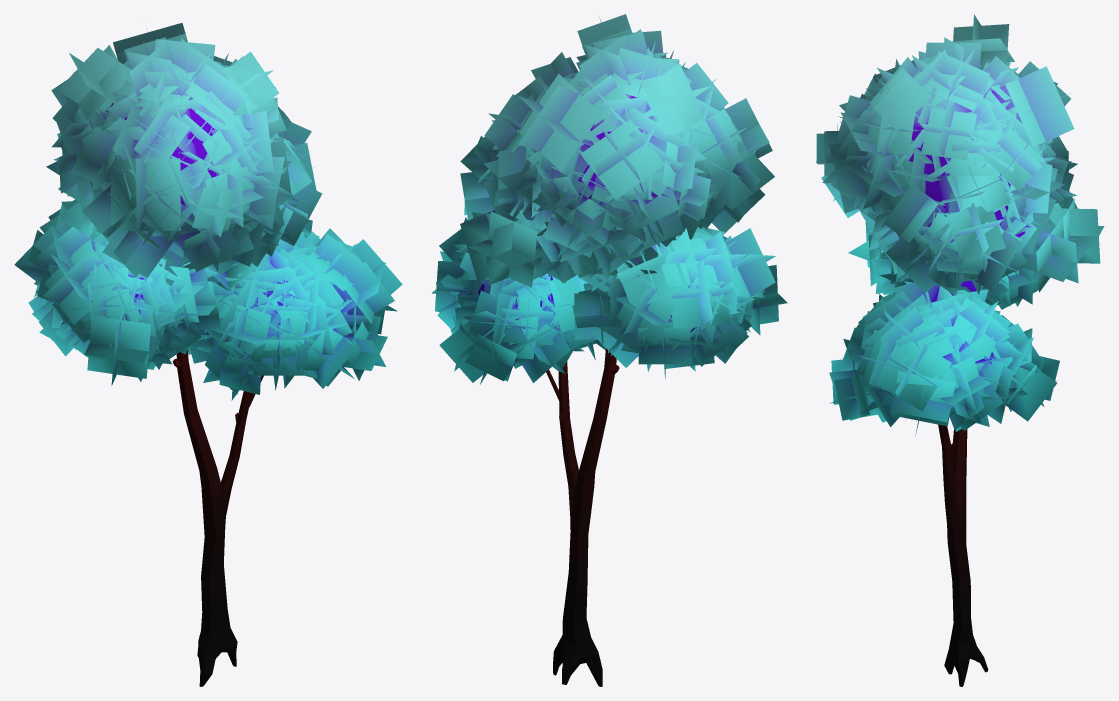
File: SM_Env_Tree_Birch_03.FBX
The picture shows the model from 3 angles, left to right: view 1: azimuth 30°, elevation 25°; view 2: azimuth 150°, elevation 25°; view 3: azimuth 270°, elevation 25°; orthographic projection. The views are drawn at different scales.
Parts seen in each view (by area): view 1: SM_Env_Tree_Birch_03; view 2: SM_Env_Tree_Birch_03; view 3: SM_Env_Tree_Birch_03.
Boxes of the visible parts, x1,y1,x2,y2 form: SM_Env_Tree_Birch_03: (14,22,402,686); SM_Env_Tree_Birch_03: (431,14,787,686); SM_Env_Tree_Birch_03: (816,14,1104,686).
Size of the model in its own units: 274 by 211 by 500.
